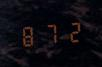eight: (18, 22, 38, 47)
seven: (40, 21, 60, 46)
two: (61, 19, 81, 44)
